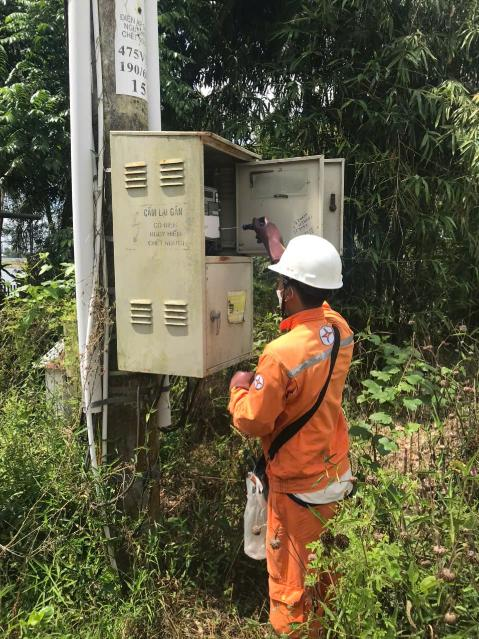gloves: (245, 209, 298, 265), (223, 366, 259, 403)
helmet: (273, 232, 365, 303)
